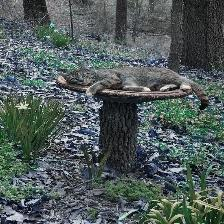kedo: (58, 66, 212, 110)
